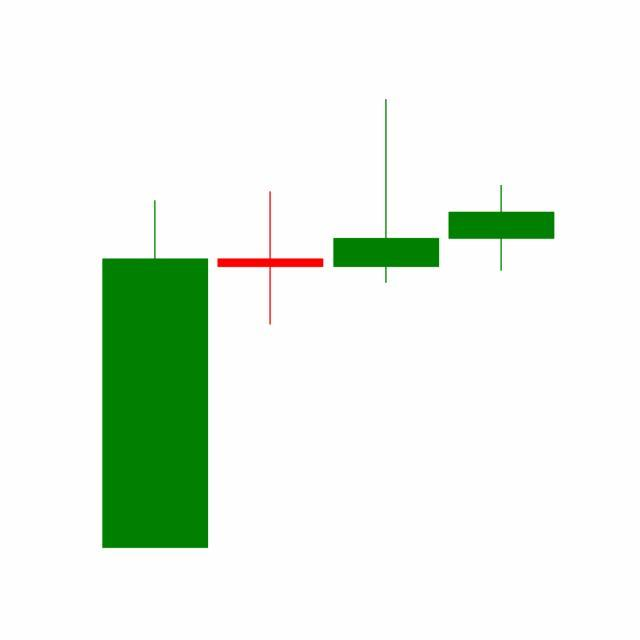Spinning Top: (444, 185, 560, 273)
